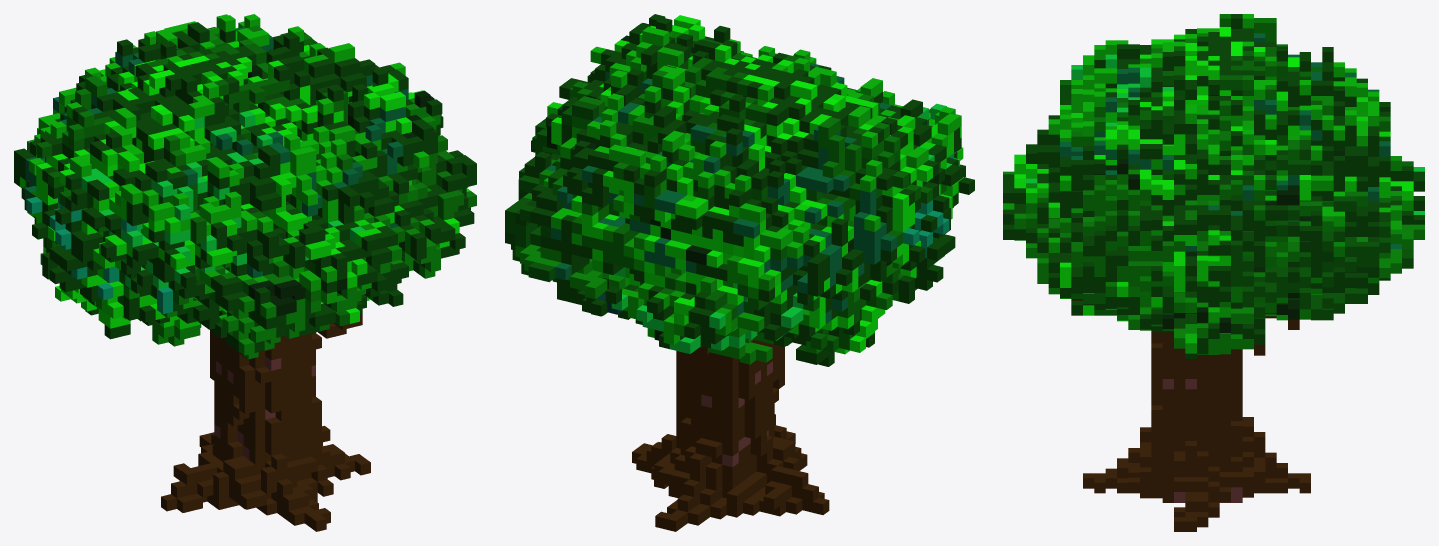
File: treemiddle.obj
3 renders of one model, left to right at view 1: azimuth 30°, elevation 25°; view 2: azimuth 150°, elevation 25°; view 3: azimuth 270°, elevation 25°, orthographic. The views are drawn at different scales.
Size of the model in its own units: 3.8 by 4 by 3.7.
